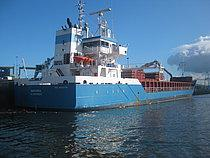Ship: (9, 10, 198, 117)
